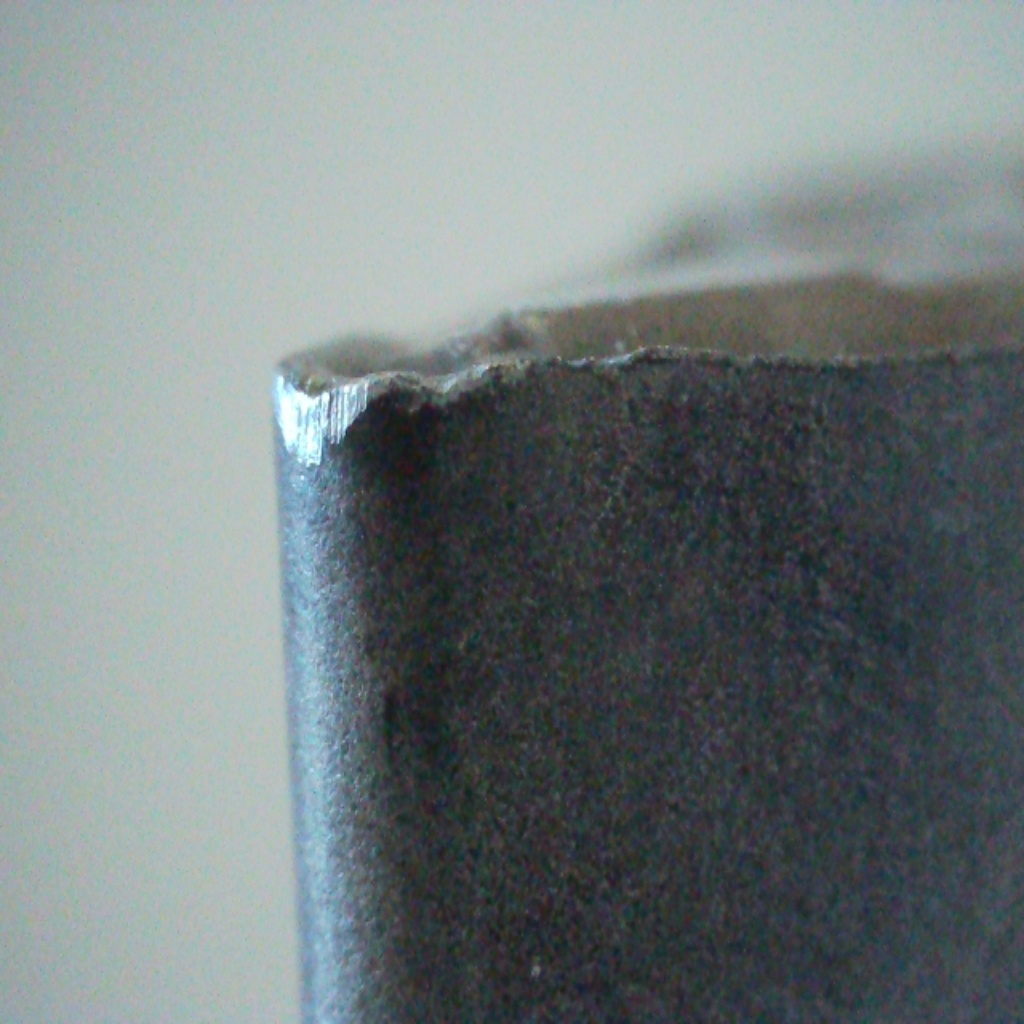flank_wear: (274, 371, 388, 473)
